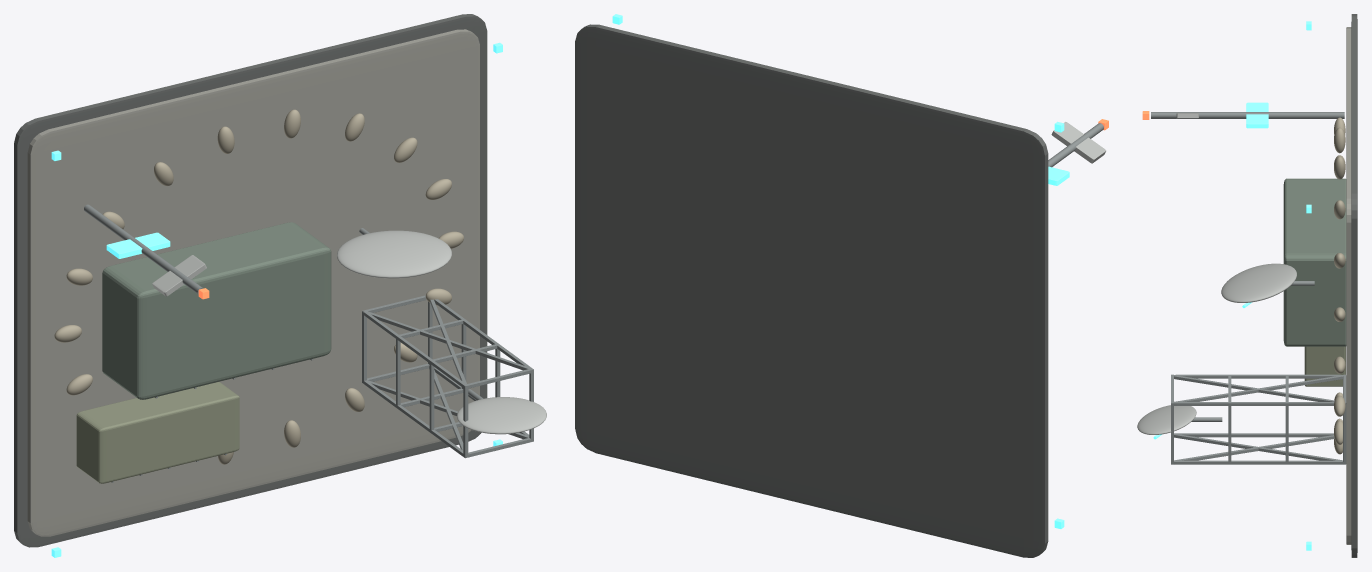
Rendered from b-43-command-relay-lod1.glb.
3 renders of one model, left to right at view 1: azimuth 30°, elevation 25°; view 2: azimuth 150°, elevation 25°; view 3: azimuth 270°, elevation 25°, orthographic. The views are drawn at different scales.
Parts seen in each view (by area): view 1: foundation_inner_pad, command_container_container, foundation, generator_truck_container, relay_dish_fixed_dish, relay_dish_scissor_dish, relay_whip_main, relay_whip_array_1, relay_whip_array_0, scissor_mast_brace_a_1.05, scissor_mast_column_w_n, scissor_mast_column_w_s; view 2: foundation, relay_whip_array_1; view 3: command_container_container, foundation, foundation_inner_pad, relay_dish_fixed_dish, generator_truck_container, relay_dish_scissor_dish, relay_whip_main, scissor_mast_column_e_s, scissor_mast_column_w_n, scissor_mast_brace_b_-1.05, scissor_mast_column_w_s, scissor_mast_brace_a_1.05 (+4 smaller).
Boxes of the visible parts, x1,y1,x2,y2 form: foundation_inner_pad: [27, 29, 479, 536]; command_container_container: [102, 222, 331, 399]; foundation: [14, 14, 487, 547]; generator_truck_container: [76, 381, 239, 483]; relay_dish_fixed_dish: [337, 230, 451, 278]; relay_dish_scissor_dish: [457, 397, 546, 434]; relay_whip_main: [84, 204, 203, 294]; relay_whip_array_1: [152, 255, 206, 296]; relay_whip_array_0: [106, 232, 170, 258]; scissor_mast_brace_a_1.05: [366, 311, 529, 370]; scissor_mast_column_w_n: [364, 311, 465, 387]; scissor_mast_column_w_s: [364, 380, 463, 456]; foundation: [575, 24, 1048, 557]; relay_whip_array_1: [1051, 122, 1106, 163]; command_container_container: [1283, 178, 1346, 346]; foundation: [1351, 14, 1357, 557]; foundation_inner_pad: [1346, 27, 1351, 544]; relay_dish_fixed_dish: [1221, 263, 1296, 302]; generator_truck_container: [1304, 346, 1345, 386]; relay_dish_scissor_dish: [1137, 405, 1196, 434]; relay_whip_main: [1151, 112, 1344, 118]; scissor_mast_column_e_s: [1174, 460, 1343, 464]; scissor_mast_column_w_n: [1174, 374, 1343, 378]; scissor_mast_brace_b_-1.05: [1174, 434, 1342, 460]; scissor_mast_column_w_s: [1174, 433, 1333, 437]; scissor_mast_brace_a_1.05: [1174, 375, 1342, 402].
Size of what is drawn, in the model's own units: 15 by 13 by 7.16.
